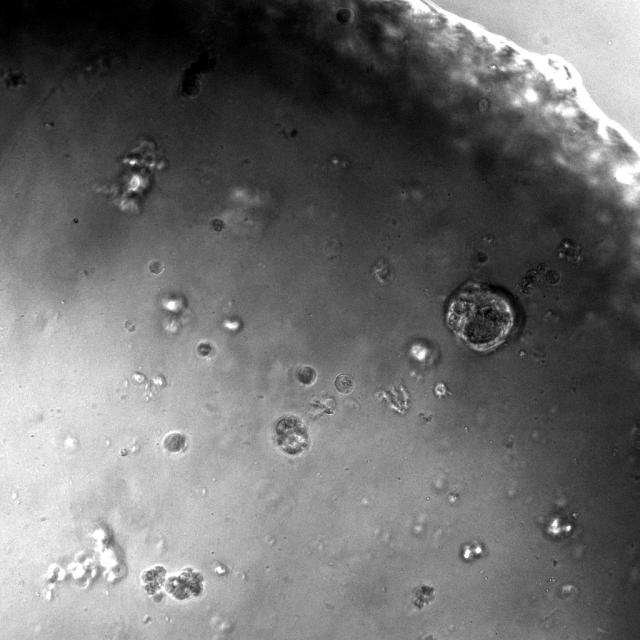organoid: (444, 280, 524, 354), (44, 527, 125, 599), (98, 138, 166, 213), (140, 565, 203, 602), (274, 414, 308, 455), (520, 263, 561, 295), (459, 539, 486, 562), (557, 238, 581, 262), (412, 584, 434, 609), (162, 431, 186, 453), (294, 364, 317, 385), (334, 373, 354, 395), (197, 340, 217, 359), (148, 259, 164, 274), (210, 218, 226, 232)
